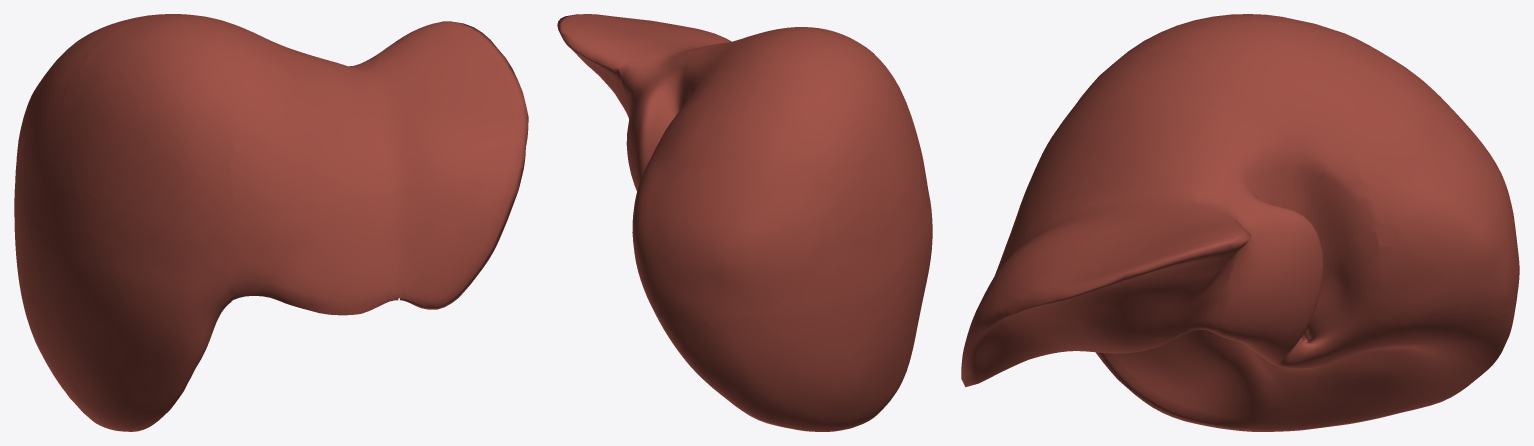
Rendered from liver.mo.glb.
3 renders of one model, left to right at view 1: azimuth 30°, elevation 25°; view 2: azimuth 150°, elevation 25°; view 3: azimuth 270°, elevation 25°, orthographic. The views are drawn at different scales.
Parts seen in each view (by area): view 1: Liver_surface; view 2: Liver_surface; view 3: Liver_surface.
Boxes of the visible parts, x1,y1,x2,y2 form: Liver_surface: (14, 14, 528, 431); Liver_surface: (557, 14, 932, 431); Liver_surface: (961, 14, 1519, 431).
Size of the model in its own units: 1.97 by 1.8 by 2.
